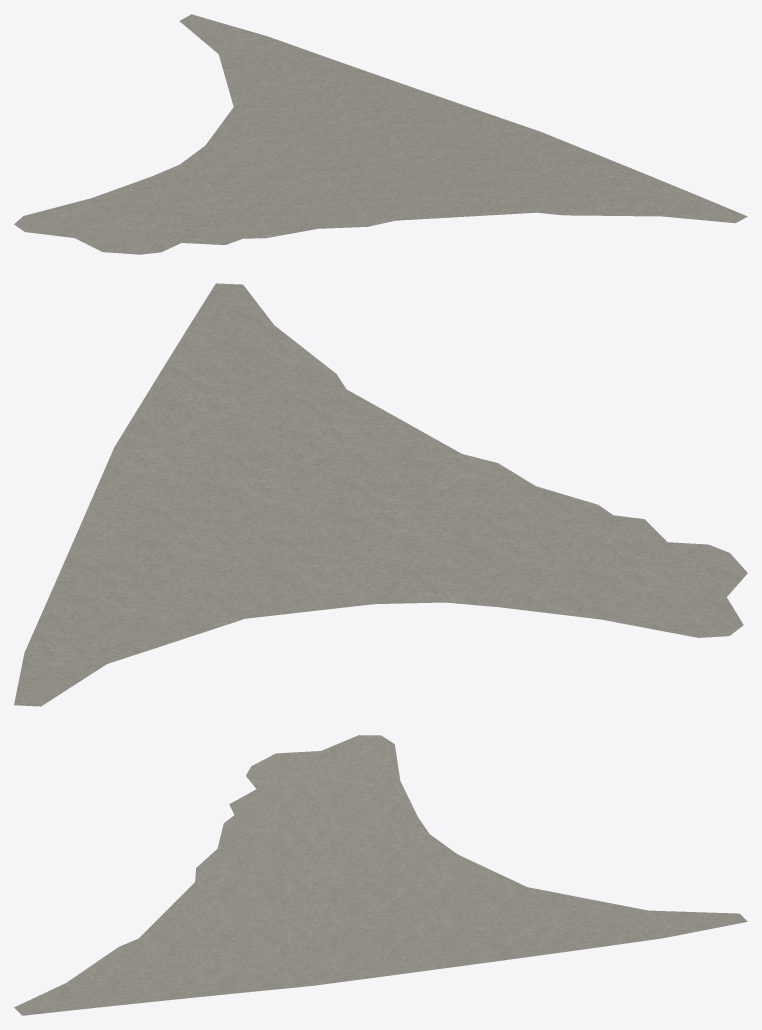
The model's file is path_03.gltf.
The picture shows the model from 3 angles, top to bottom: view 1: azimuth 30°, elevation 25°; view 2: azimuth 150°, elevation 25°; view 3: azimuth 270°, elevation 25°; orthographic projection. The views are drawn at different scales.
Visible parts, largest first — view 1: path_03.surface; view 2: path_03.surface; view 3: path_03.surface.
Boxes of the visible parts, x1,y1,x2,y2 form: path_03.surface: [14, 14, 747, 254]; path_03.surface: [14, 283, 747, 706]; path_03.surface: [14, 735, 747, 1015].
Size of the model in its own units: 12 by 0.1723 by 13.3.
1 material, 1 textured.
